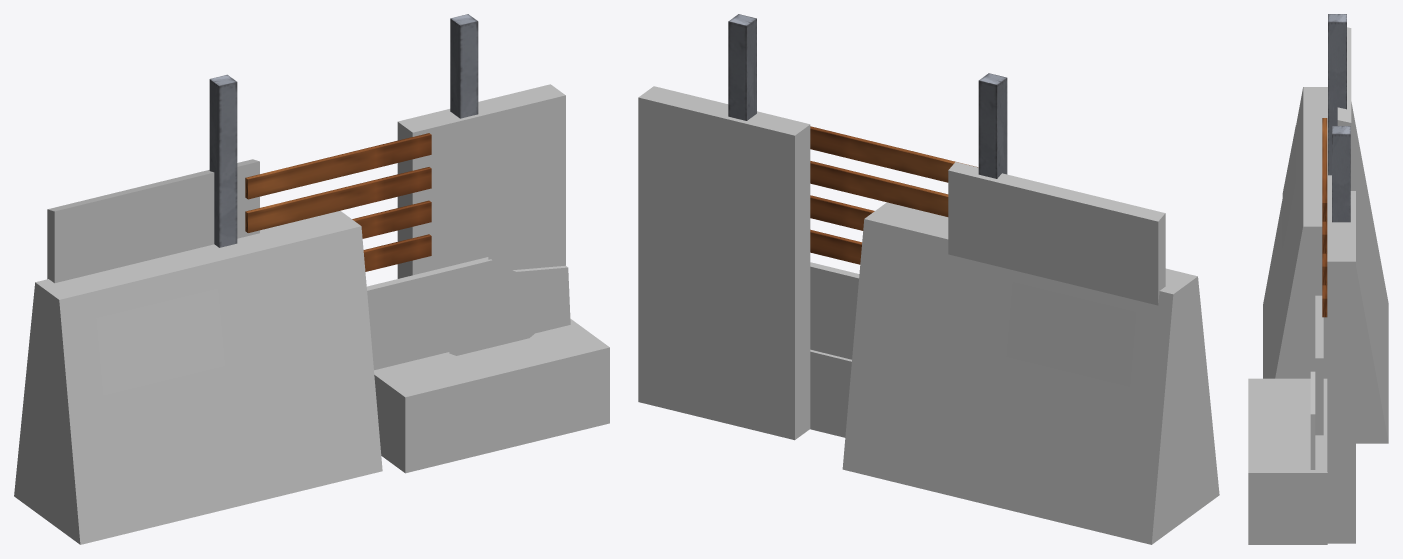
The model's file is barier3_4.fbx.
3 views of the same model, side by side, from view 1: azimuth 30°, elevation 25°; view 2: azimuth 150°, elevation 25°; view 3: azimuth 270°, elevation 25° (orthographic). The views are drawn at different scales.
Visible parts, largest first — view 1: Cube.049, 1.059, 1.004, 1.078, 1.082, 1.086, 1.081, 1.002; view 2: Cube.049, 1.059, 1.083, 1.004, 1.085, 1.084, 1.086, 1.002; view 3: 1.059, Cube.049, 1.086, 1.002, 1.004, 1.078, 1.083.
Boxes of the visible parts, left/top/right/bottom form: Cube.049: left=14, top=210, right=382, bottom=544; 1.059: left=47, top=84, right=609, bottom=473; 1.004: left=245, top=133, right=431, bottom=271; 1.078: left=96, top=289, right=224, bottom=394; 1.082: left=449, top=263, right=536, bottom=355; 1.086: left=209, top=74, right=237, bottom=247; 1.081: left=488, top=198, right=558, bottom=270; 1.002: left=450, top=14, right=478, bottom=118; Cube.049: left=842, top=202, right=1219, bottom=544; 1.059: left=638, top=86, right=1165, bottom=440; 1.083: left=1006, top=282, right=1136, bottom=386; 1.004: left=810, top=126, right=977, bottom=264; 1.085: left=680, top=260, right=769, bottom=368; 1.084: left=650, top=199, right=721, bottom=289; 1.086: left=978, top=73, right=1007, bottom=178; 1.002: left=728, top=14, right=756, bottom=120; 1.059: left=1248, top=27, right=1355, bottom=544; Cube.049: left=1263, top=87, right=1388, bottom=443; 1.086: left=1328, top=14, right=1346, bottom=175; 1.002: left=1332, top=126, right=1350, bottom=222; 1.004: left=1322, top=118, right=1327, bottom=317; 1.078: left=1282, top=125, right=1295, bottom=247; 1.083: left=1353, top=126, right=1364, bottom=245.
Bounding box in the file's own units: 176 × 126 × 43.43.
